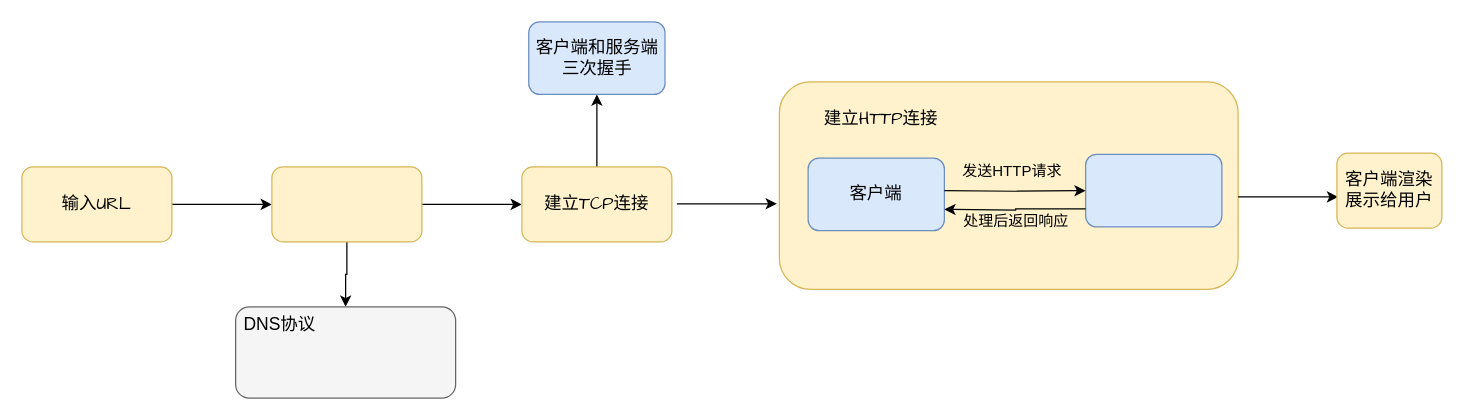
This 1464x420 diagram has some shape labels left out. Each missing label, with the box of its shape:
URL --> IP: (234, 306, 456, 398)
域名解析: (271, 166, 422, 242)
服务端: (1084, 153, 1222, 227)
